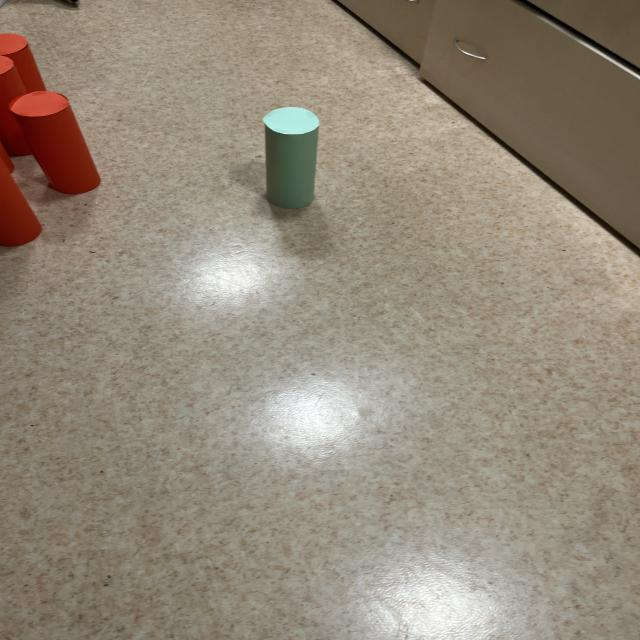meta: (263, 107, 319, 209)
